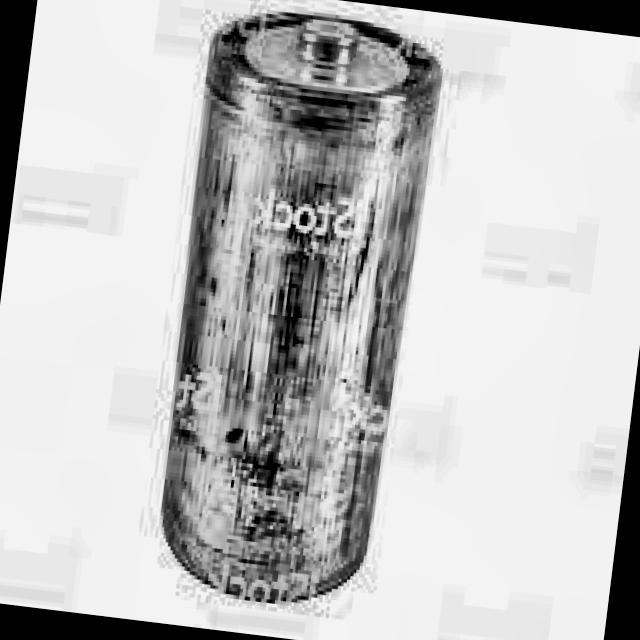Battery: (146, 1, 448, 617)
